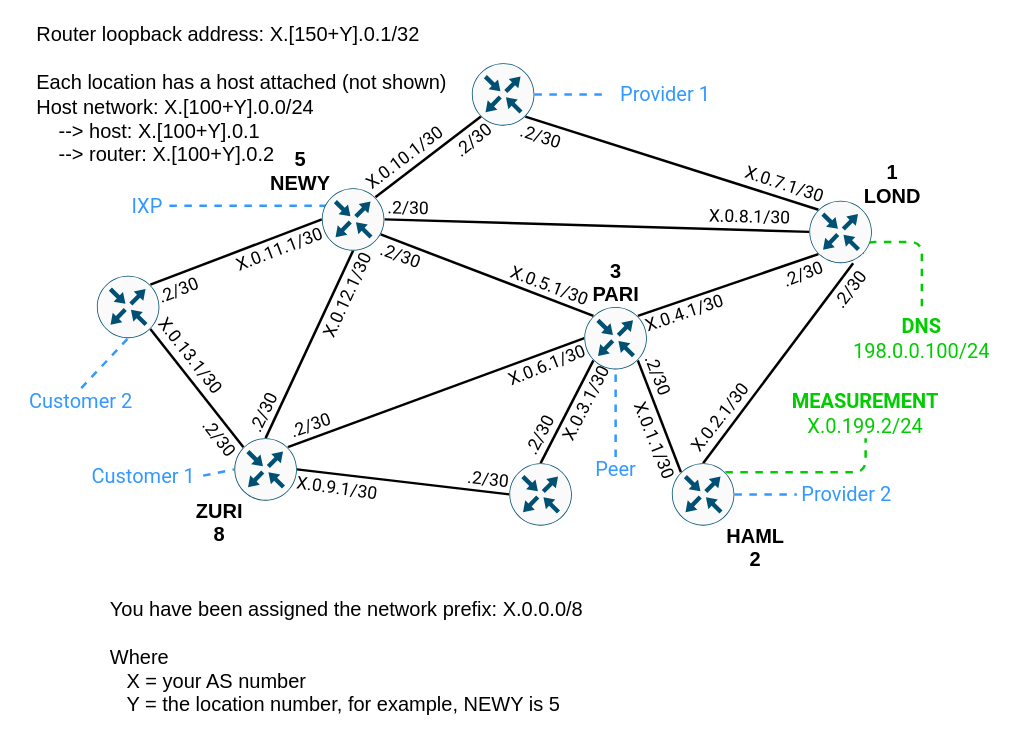
Image size: 1011x748. Some labels were removed from this diagram. The shapes that lost their labels are listed below. From the top down, each one's centre as x and y in pixels, then its label:
At point (502, 94): "6 BOST".
At point (127, 306): "7 ATLA".
At point (540, 494): "TRGA 4".
